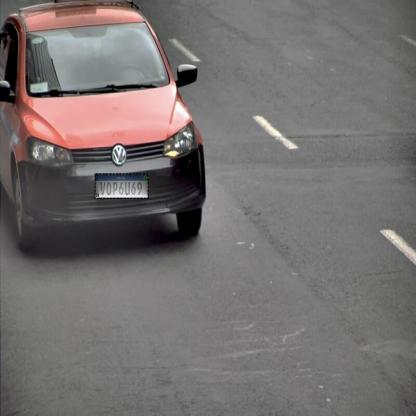PlacaM: (95, 173, 148, 199)
